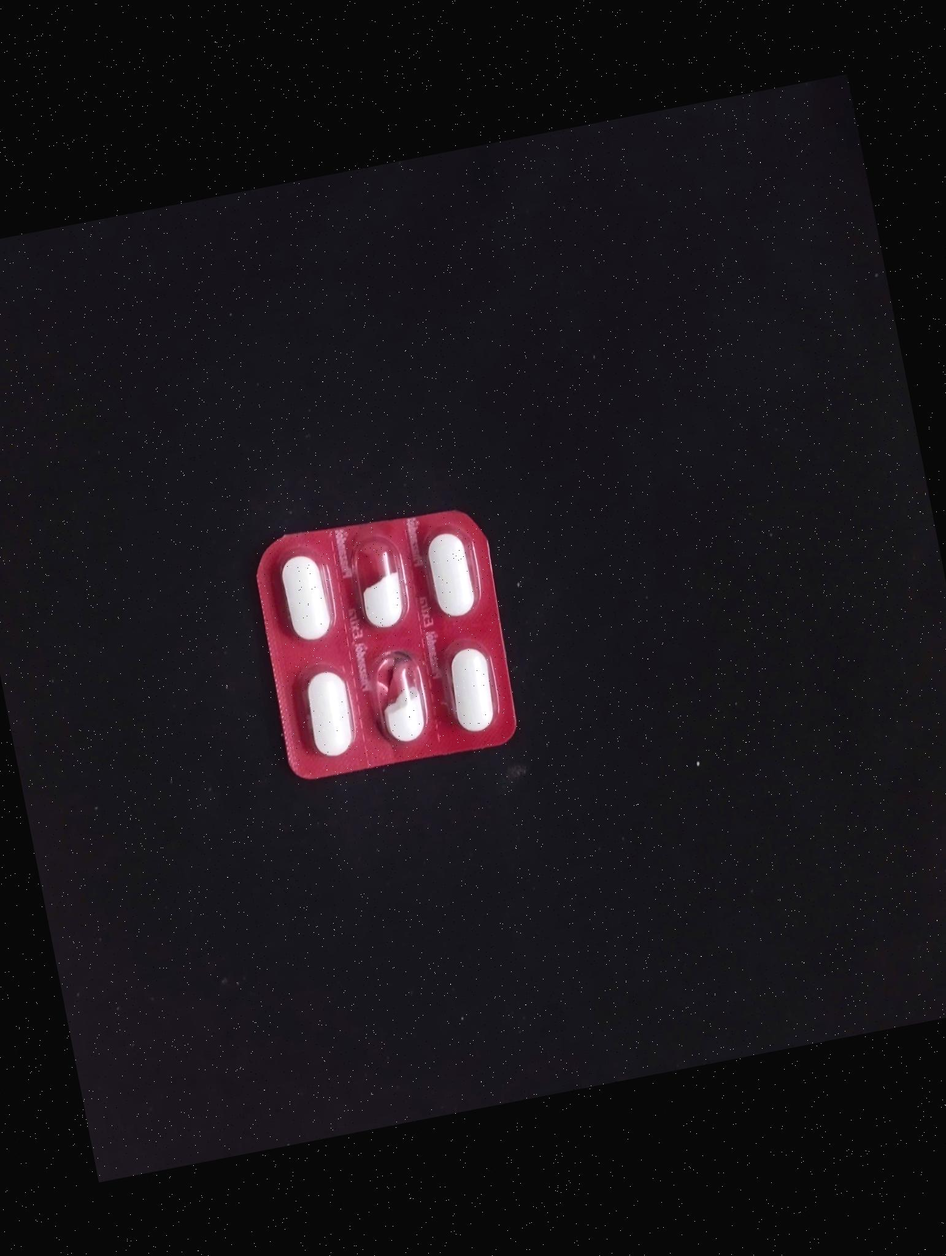Full: (291, 645, 367, 764), (416, 518, 486, 627), (437, 638, 510, 741), (275, 547, 342, 645)
Partial: (364, 641, 444, 752), (339, 528, 419, 636)
